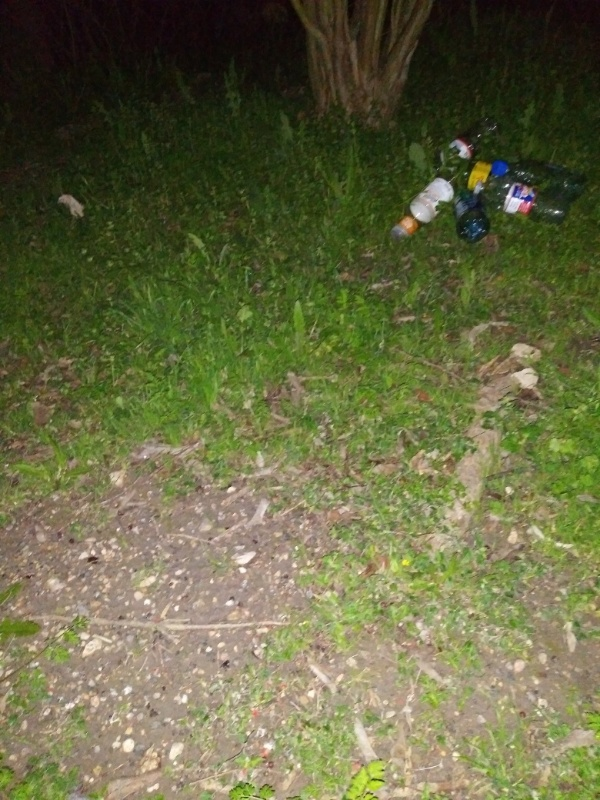bottle: (387, 168, 466, 241), (473, 176, 573, 227), (493, 157, 575, 193), (443, 115, 505, 162), (455, 159, 515, 198), (452, 190, 493, 247)
